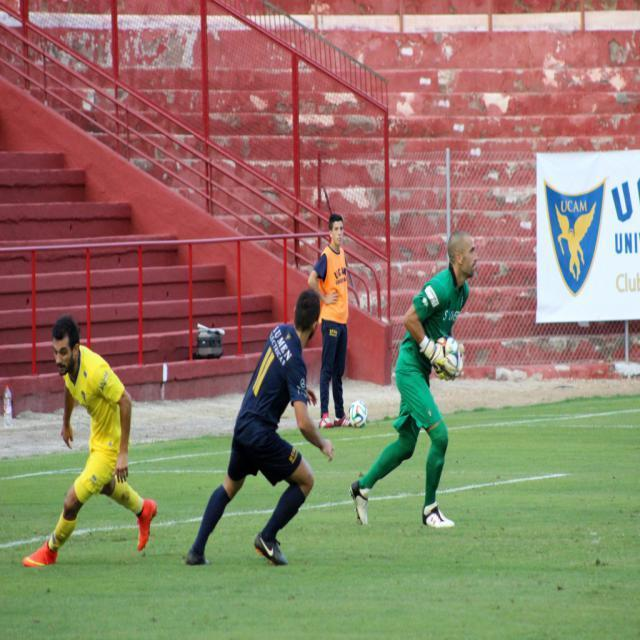football: (431, 333, 472, 381), (344, 397, 381, 444)
